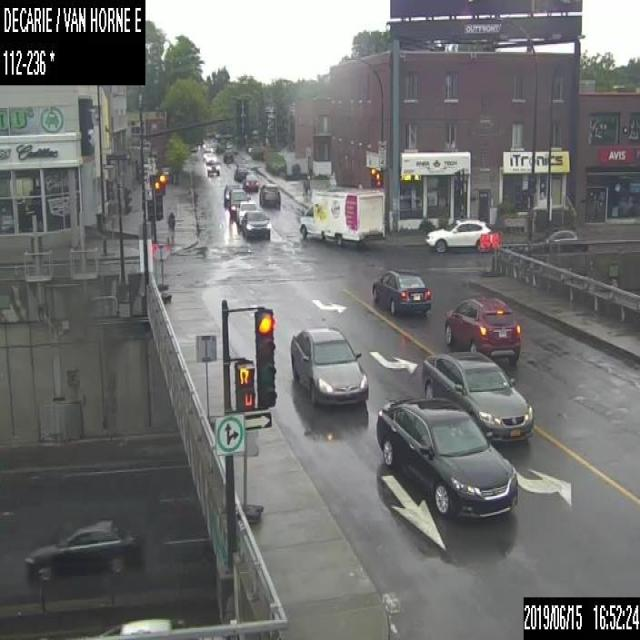construction: (194, 332, 223, 433), (232, 426, 262, 522), (153, 242, 170, 304), (490, 231, 500, 276), (479, 232, 489, 275)
pedestrian: (165, 212, 176, 243)
vehicle: (375, 398, 518, 519), (422, 352, 533, 442), (23, 518, 141, 581), (290, 325, 368, 405), (444, 297, 520, 366), (297, 187, 384, 245), (370, 270, 432, 318), (94, 614, 194, 638), (424, 217, 492, 252), (520, 227, 588, 253), (241, 210, 270, 239), (235, 198, 256, 226), (230, 188, 250, 216), (259, 183, 280, 206), (222, 183, 240, 207), (242, 173, 257, 190), (232, 164, 247, 180), (206, 158, 218, 174), (205, 152, 217, 163), (223, 148, 231, 161), (202, 148, 210, 159)
